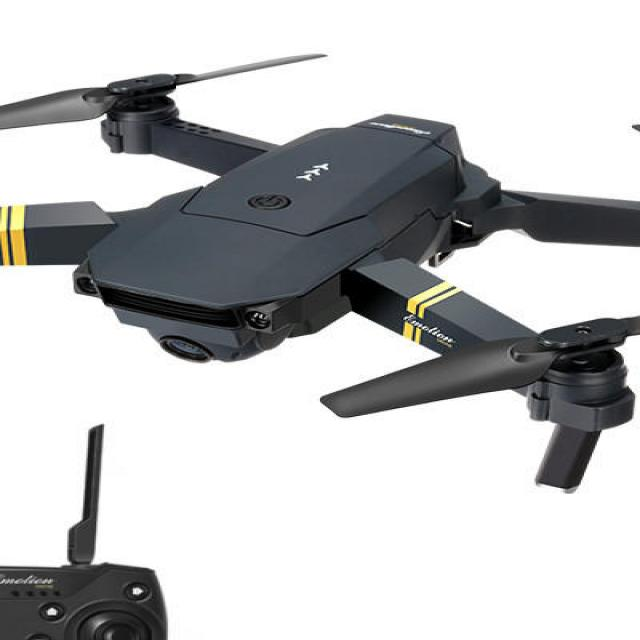drone: (0, 58, 640, 470)
